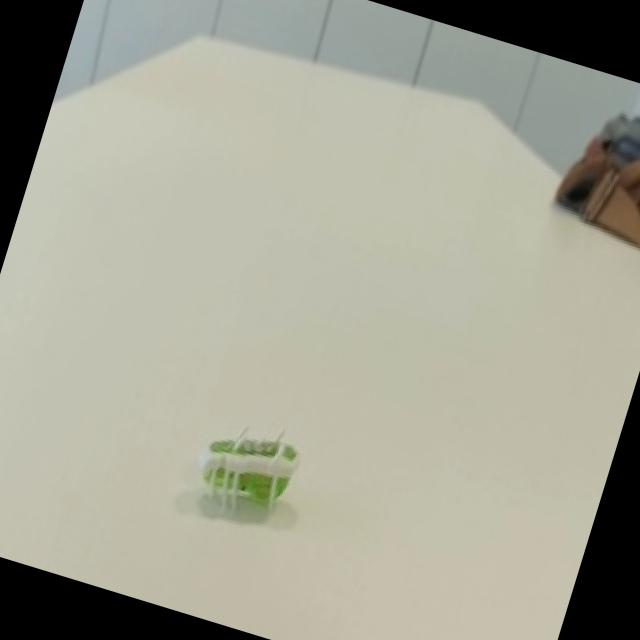4_NanoBug_Blanco: (150, 393, 340, 564)
